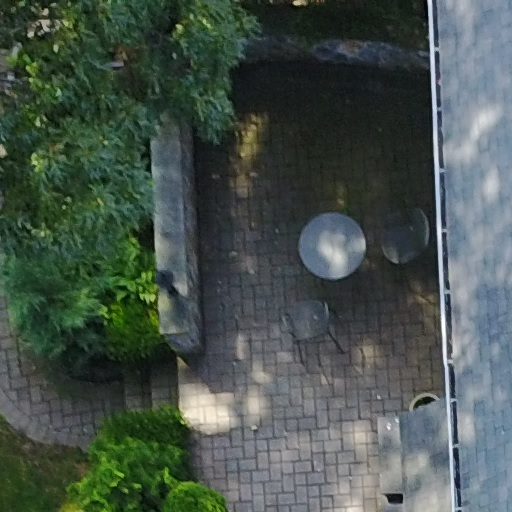container: (408, 390, 447, 423)
